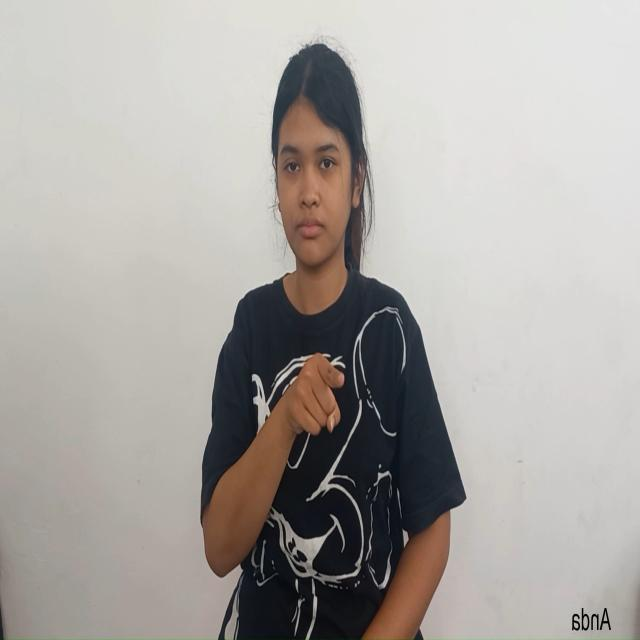Anda -BISINDO-: (246, 344, 351, 517)
